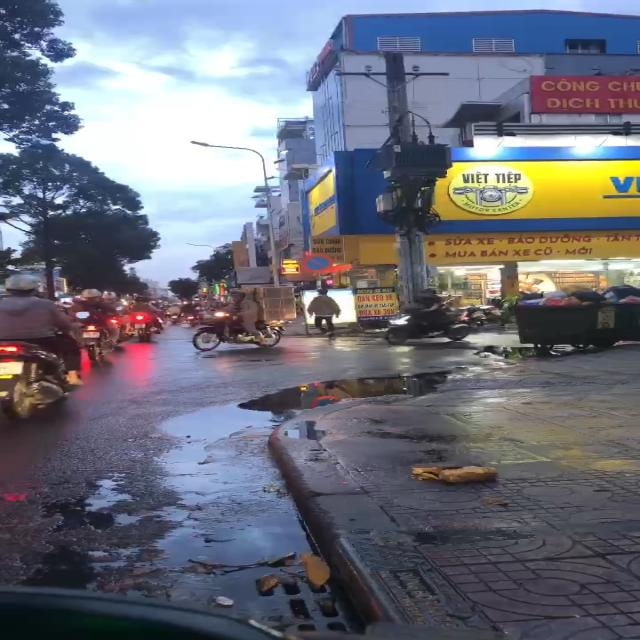Bien bao cam do xe: (299, 252, 337, 274)
